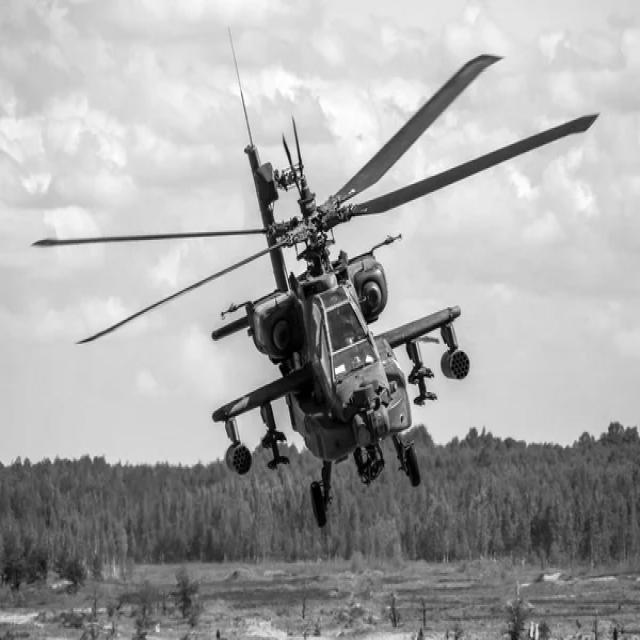Helicopter: (35, 53, 598, 527)
